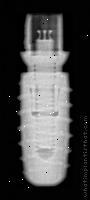Camlog: (14, 13, 75, 188)
